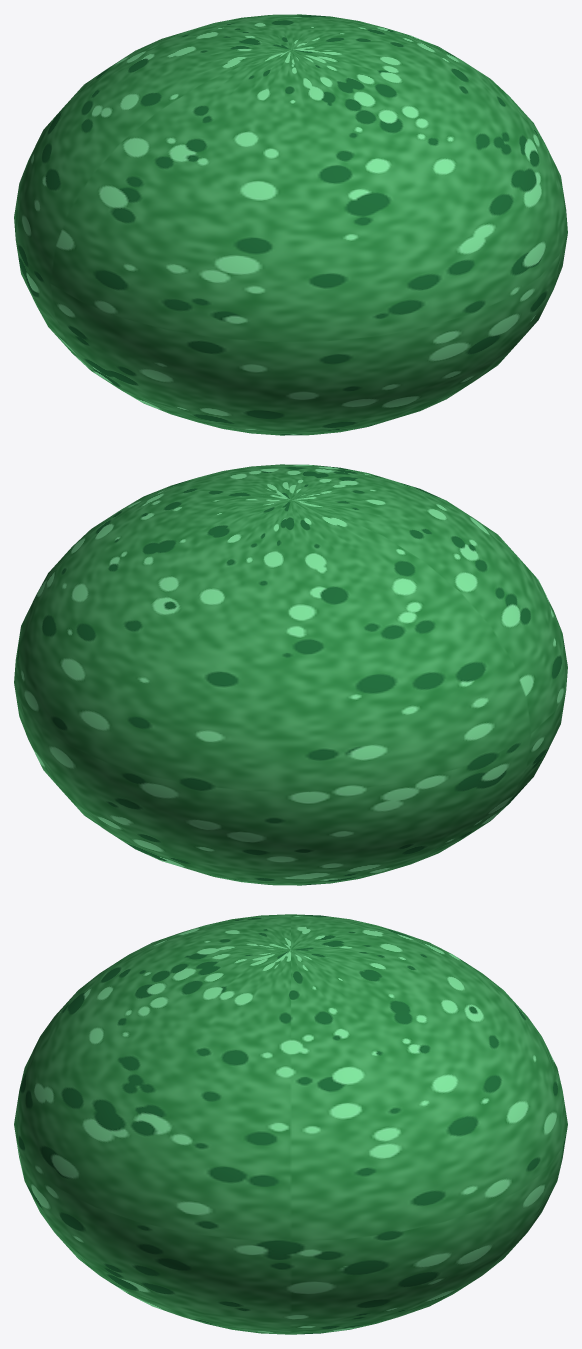
File: hundun.glb
3 renders of one model, top to bottom at view 1: azimuth 30°, elevation 25°; view 2: azimuth 150°, elevation 25°; view 3: azimuth 270°, elevation 25°, orthographic.
Visible parts, largest first — view 1: Body; view 2: Body; view 3: Body.
Boxes of the visible parts, x1,y1,x2,y2 form: Body: [14, 14, 567, 435]; Body: [14, 464, 567, 885]; Body: [14, 914, 567, 1334].
Bounding box in the file's own units: 1.44 × 1 × 1.44.
Materials: 1 (1 with a texture image).
